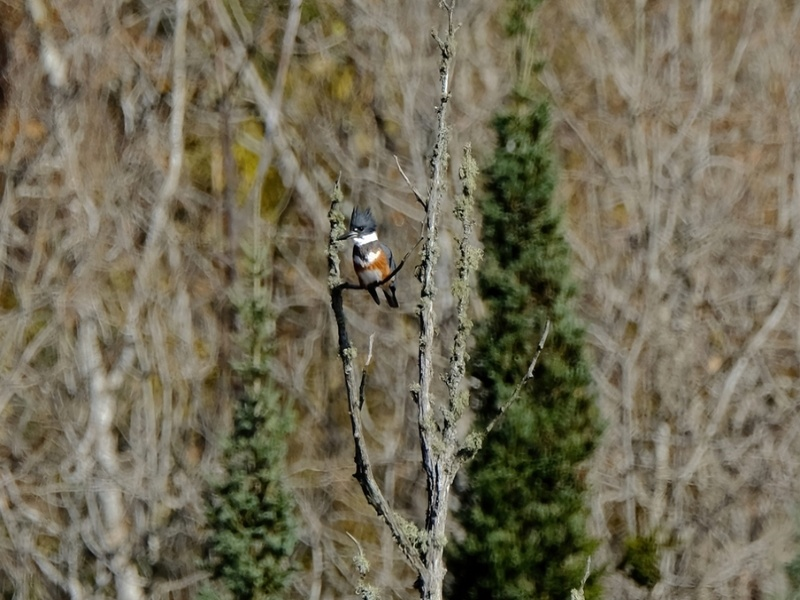kingfisher: (337, 205, 400, 309)
